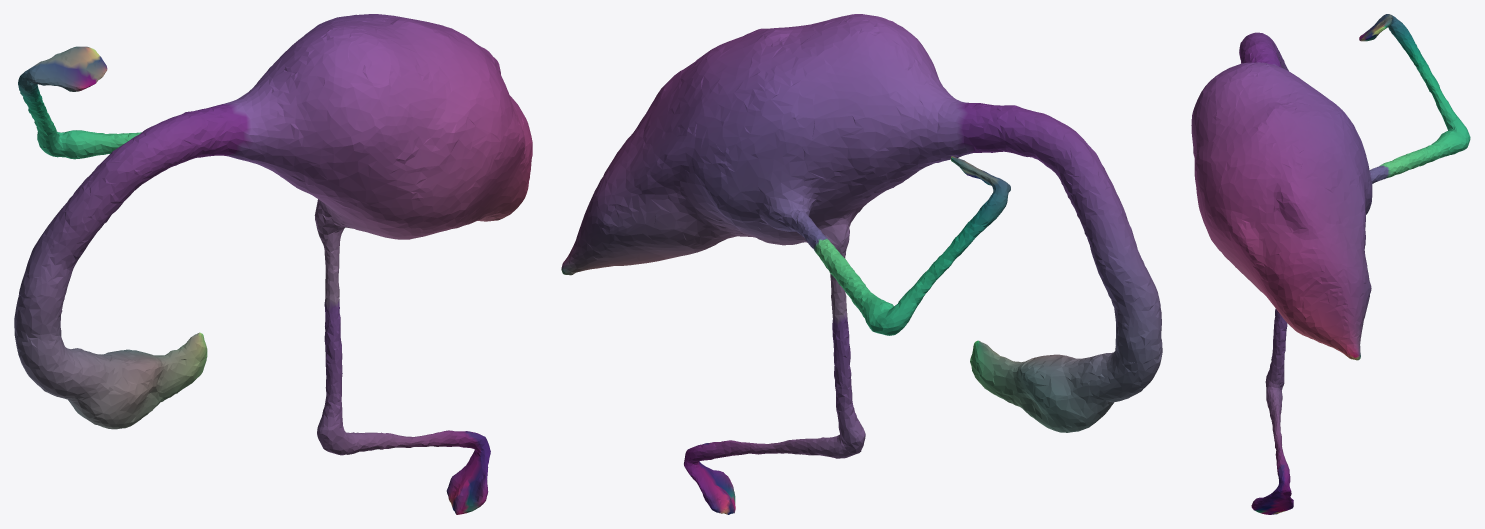
Rendered from flamingo-14.off.obj.
The picture shows the model from 3 angles, left to right: view 1: azimuth 30°, elevation 25°; view 2: azimuth 150°, elevation 25°; view 3: azimuth 270°, elevation 25°; orthographic projection. The views are drawn at different scales.
Size of the model in its own units: 1.34 by 1.2 by 0.7532.
